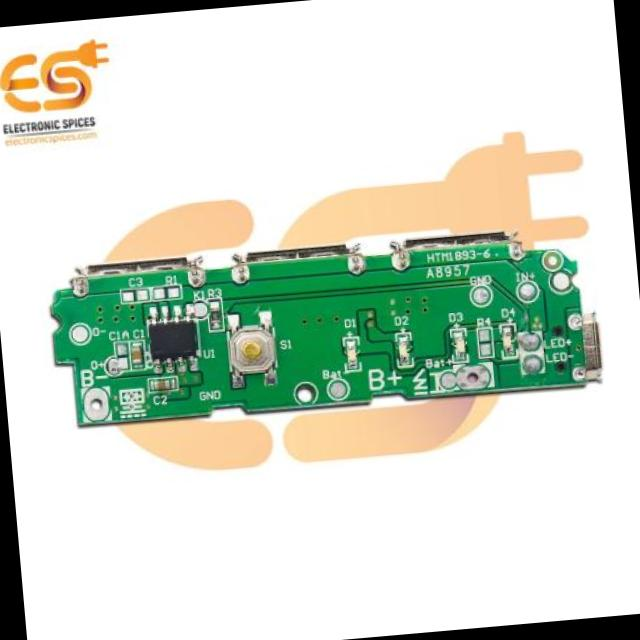IC: (144, 310, 204, 368)
LED: (394, 335, 412, 364), (499, 325, 515, 356), (450, 331, 466, 358), (346, 339, 360, 368)
capacitor: (151, 378, 174, 392), (130, 342, 142, 366)
resistor: (209, 306, 222, 324)
